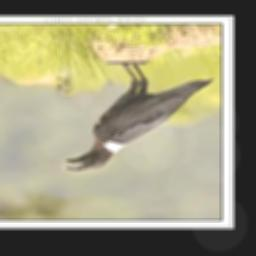Crow: (61, 60, 216, 173)
